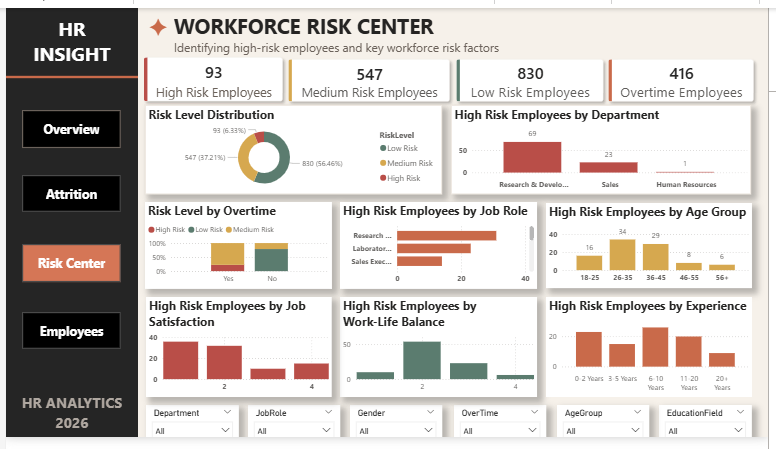

What the dashboard file says about the page in this screenshot:
{"tool":"powerbi","page":{"name":"Risk Center","canvas":[1280,720],"ordinal":2},"visuals":[{"type":"shape","box":[0,0,221.7,720.6],"z":0},{"type":"textbox","title":"WORKFORCE RISK CENTER","box":[278.8,6.7,687,102.5],"z":1000},{"type":"textbox","box":[0,6.7,221.7,102.5],"z":2000},{"type":"shape","box":[0,109.2,221.7,13.4],"z":3000},{"type":"actionButton","title":" ▌","box":[26.9,171.3,166.3,63.8],"z":4000},{"type":"actionButton","box":[26.9,280.5,166.3,62.2],"z":5000},{"type":"actionButton","title":"Risk Center","box":[26.9,396.4,166.3,63.8],"z":6000},{"type":"actionButton","title":"Employees","box":[26.9,510.7,166.3,62.2],"z":7000},{"type":"textbox","box":[0,641,221.7,79],"z":8000},{"type":"cardVisual","title":"Total Employees","fields":{"Data":["Employee Data.Overtime Employees"]},"box":[987.7,62.2,292.3,119.3],"z":9000},{"type":"cardVisual","title":"Total Employees","fields":{"Data":["Employee Data.High Risk Employees"]},"box":[201.6,58.8,287.2,122.6],"z":10000},{"type":"cardVisual","title":"Total Employees","fields":{"Data":["Employee Data.Medium Risk Employees"]},"box":[450.2,62.2,319.2,119.3],"z":11000},{"type":"cardVisual","title":"Total Employees","fields":{"Data":["Employee Data.Low Risk Employees"]},"box":[732.4,62.2,295.6,119.3],"z":12000},{"type":"donutChart","title":"Risk Level Distribution","fields":{"Category":["Employee Data.RiskLevel"],"Y":["Employee Data.Total Employees"]},"box":[233.5,162.9,498.9,149.5],"z":13000},{"type":"clusteredColumnChart","title":"High Risk Employees by Department","fields":{"Category":["Employee Data.Department"],"Y":["Employee Data.High Risk Employees"]},"box":[747.5,162.9,503.9,149.5],"z":14000},{"type":"hundredPercentStackedColumnChart","title":"Risk Level by Overtime","fields":{"Category":["Employee Data.OverTime"],"Y":["Employee Data.Total Employees"],"Series":["Employee Data.RiskLevel"]},"box":[233.5,325.9,314.1,146.1],"z":15000},{"type":"clusteredBarChart","title":"High Risk Employees by Job Role","fields":{"Category":["Employee Data.JobRole"],"Y":["Employee Data.High Risk Employees"]},"box":[561,325.9,330.9,146.1],"z":16000},{"type":"clusteredColumnChart","title":"High Risk Employees by Age Group","fields":{"Category":["Employee Data.AgeGroup"],"Y":["Employee Data.High Risk Employees"]},"box":[907.1,327.6,346,142.8],"z":17000},{"type":"slicer","fields":{"Values":["Employee Data.Department"]},"box":[235.2,666.9,156.2,53.8],"z":18000},{"type":"slicer","fields":{"Values":["Employee Data.JobRole"]},"box":[406.5,666.9,154.5,53.8],"z":19000},{"type":"slicer","fields":{"Values":["Employee Data.Gender"]},"box":[577.8,666.9,154.5,53.8],"z":20000},{"type":"slicer","fields":{"Values":["Employee Data.OverTime"]},"box":[752.5,666.9,154.5,53.8],"z":21000},{"type":"slicer","fields":{"Values":["Employee Data.EducationField"]},"box":[1096.9,666.9,156.2,53.8],"z":22000},{"type":"textbox","box":[233.5,0,65.5,70.6],"z":23000},{"type":"clusteredColumnChart","title":"High Risk Employees by Work-Life Balance","fields":{"Category":["Employee Data.WorkLifeBalance"],"Y":["Employee Data.High Risk Employees"]},"box":[561,485.5,330.9,168],"z":24000},{"type":"slicer","fields":{"Values":["Employee Data.AgeGroup"]},"box":[925.6,666.9,154.5,53.8],"z":25000},{"type":"clusteredColumnChart","title":"High Risk Employees by Job Satisfaction","fields":{"Y":["Employee Data.High Risk Employees"],"Category":["Employee Data.JobSatisfaction"]},"box":[235.2,485.5,312.4,168],"z":26000},{"type":"clusteredColumnChart","title":"High Risk Employees by Experience","fields":{"Category":["Experience Groups.ExperienceGroup"],"Y":["Employee Data.High Risk Employees"]},"box":[907,485,346,168],"z":27000}]}

Visuals, with their boxes in screenshot pixels (x1, y1, x2, y2), scaled from the page's 1280x720 canvas onto the 776x449 screenshot:
shape: bbox=(0, 0, 134, 448)
"WORKFORCE RISK CENTER" textbox: bbox=(169, 4, 586, 68)
textbox: bbox=(0, 4, 134, 68)
shape: bbox=(0, 68, 134, 76)
" ▌" actionButton: bbox=(16, 107, 117, 147)
actionButton: bbox=(16, 175, 117, 214)
"Risk Center" actionButton: bbox=(16, 247, 117, 287)
"Employees" actionButton: bbox=(16, 318, 117, 357)
textbox: bbox=(0, 400, 134, 448)
"Total Employees" cardVisual: bbox=(599, 39, 775, 113)
"Total Employees" cardVisual: bbox=(122, 37, 296, 113)
"Total Employees" cardVisual: bbox=(273, 39, 466, 113)
"Total Employees" cardVisual: bbox=(444, 39, 623, 113)
"Risk Level Distribution" donutChart: bbox=(142, 102, 444, 195)
"High Risk Employees by Department" clusteredColumnChart: bbox=(453, 102, 759, 195)
"Risk Level by Overtime" hundredPercentStackedColumnChart: bbox=(142, 203, 332, 294)
"High Risk Employees by Job Role" clusteredBarChart: bbox=(340, 203, 541, 294)
"High Risk Employees by Age Group" clusteredColumnChart: bbox=(550, 204, 760, 293)
slicer - Employee Data.Department: bbox=(143, 416, 237, 448)
slicer - Employee Data.JobRole: bbox=(246, 416, 340, 448)
slicer - Employee Data.Gender: bbox=(350, 416, 444, 448)
slicer - Employee Data.OverTime: bbox=(456, 416, 550, 448)
slicer - Employee Data.EducationField: bbox=(665, 416, 760, 448)
textbox: bbox=(142, 0, 181, 44)
"High Risk Employees by Work-Life Balance" clusteredColumnChart: bbox=(340, 303, 541, 408)
slicer - Employee Data.AgeGroup: bbox=(561, 416, 655, 448)
"High Risk Employees by Job Satisfaction" clusteredColumnChart: bbox=(143, 303, 332, 408)
"High Risk Employees by Experience" clusteredColumnChart: bbox=(550, 302, 760, 407)
